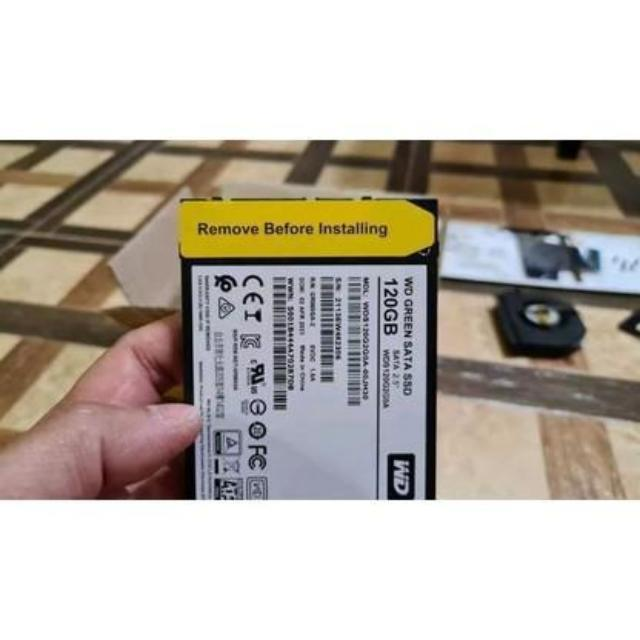DISK: (172, 187, 443, 501)
